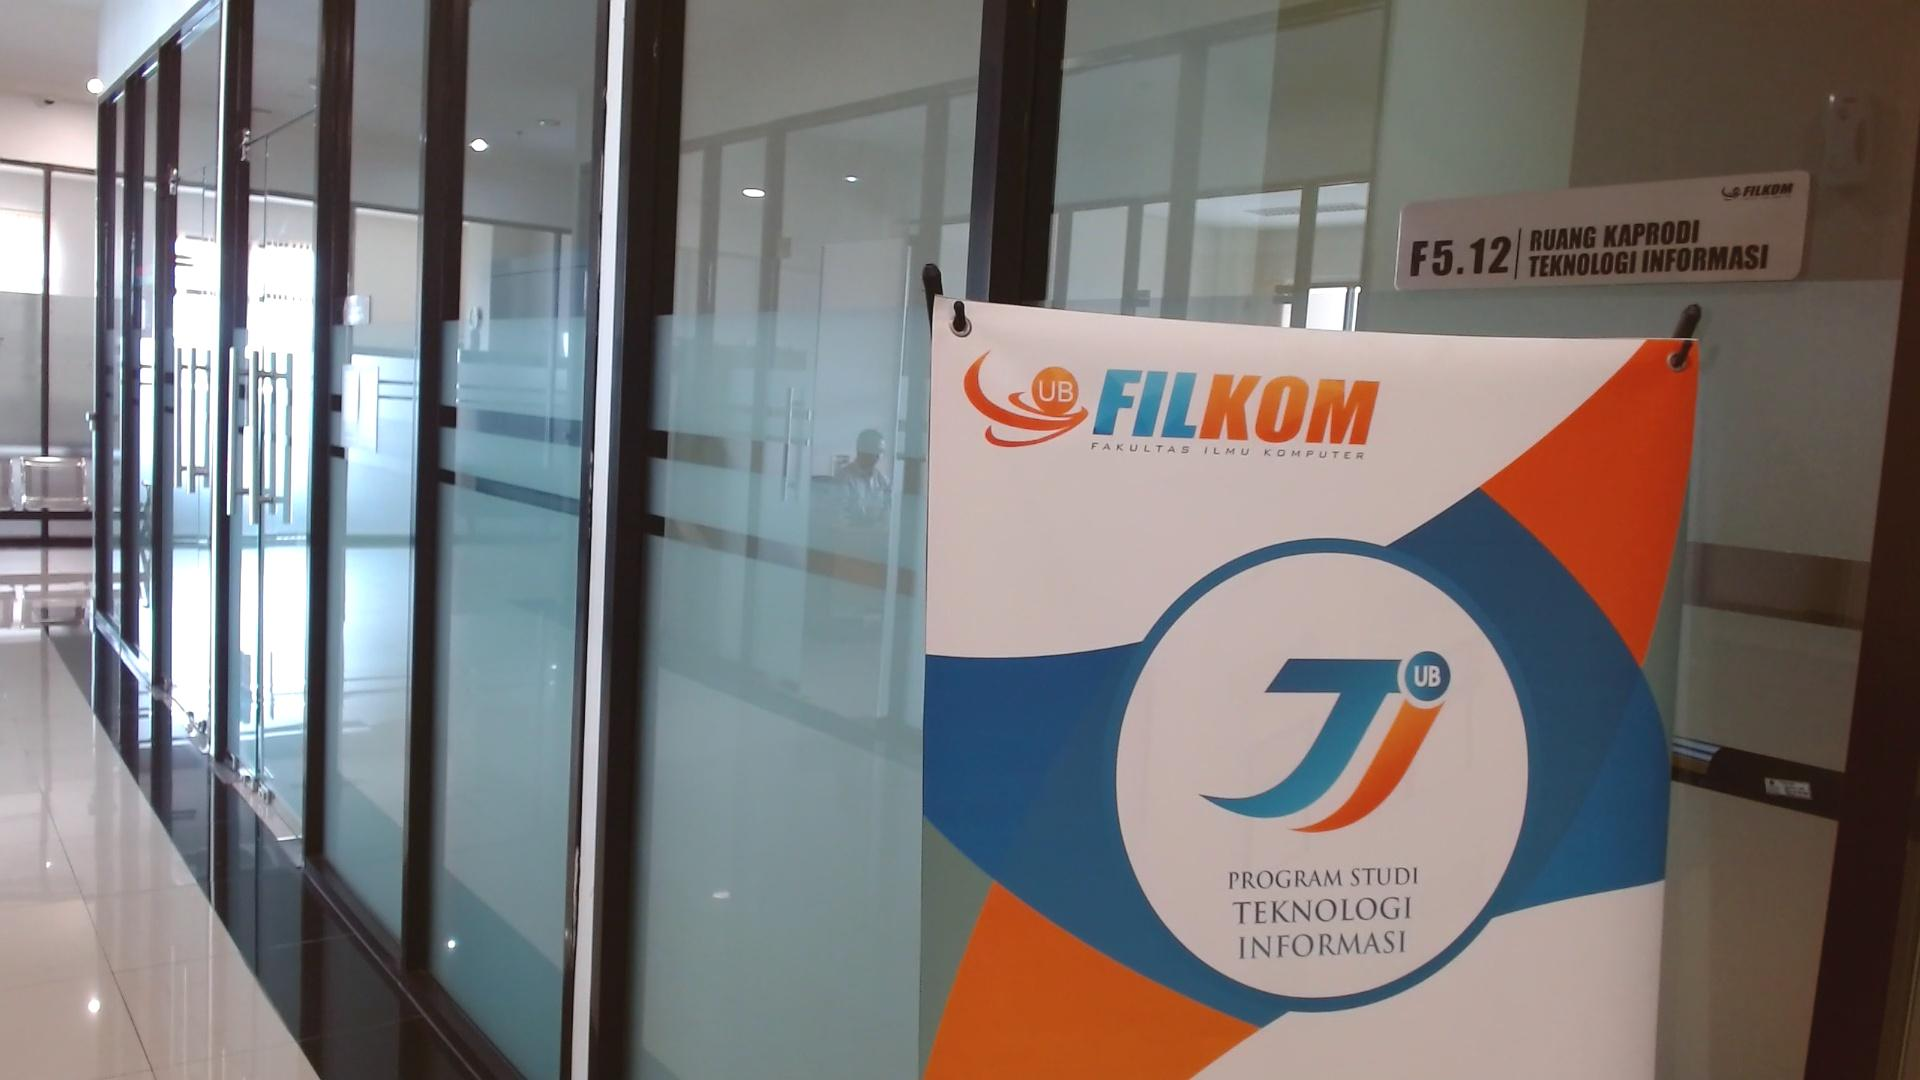plate: (1393, 171, 1813, 291)
